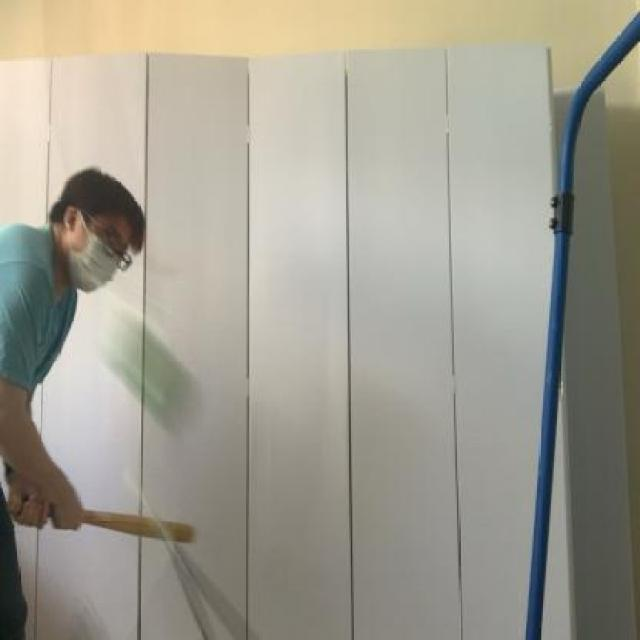baseball: (91, 303, 207, 435)
